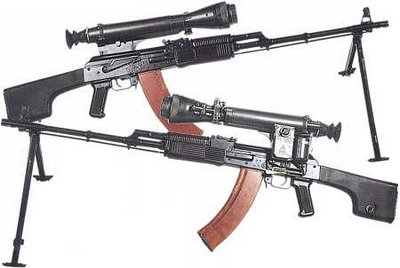rifle: (10, 110, 396, 253), (8, 15, 392, 97)
